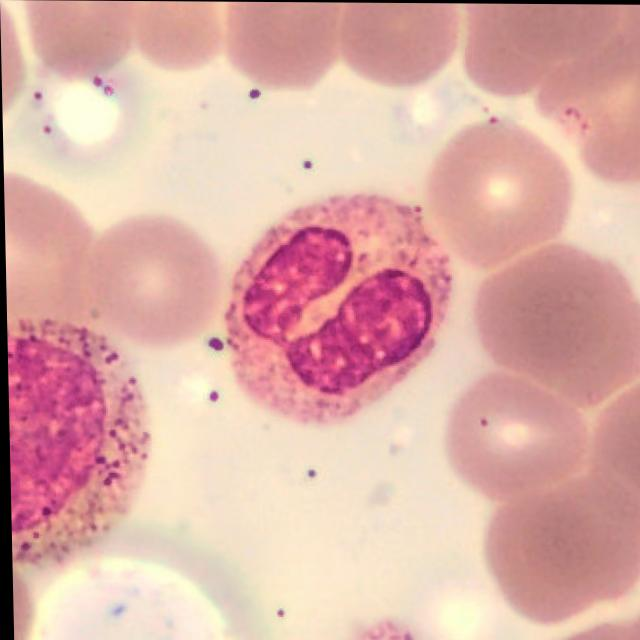Neutrofilo segmentado: (219, 193, 451, 422)
